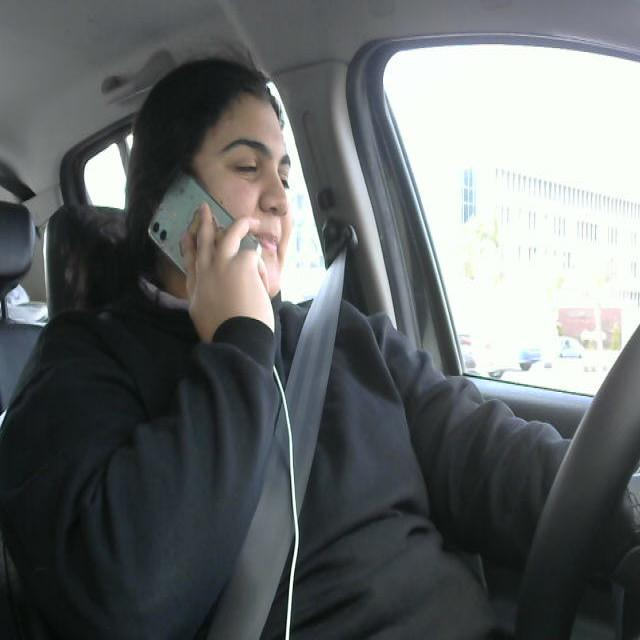mobile use: (142, 167, 268, 299)
